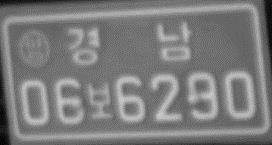0: (221, 68, 259, 120), (19, 78, 51, 127)
2: (151, 71, 182, 122)
6: (115, 74, 148, 124), (54, 76, 85, 124)
9: (186, 70, 220, 123)
경남_D: (64, 20, 194, 67)
보: (86, 79, 114, 122)
영: (19, 28, 52, 69)
